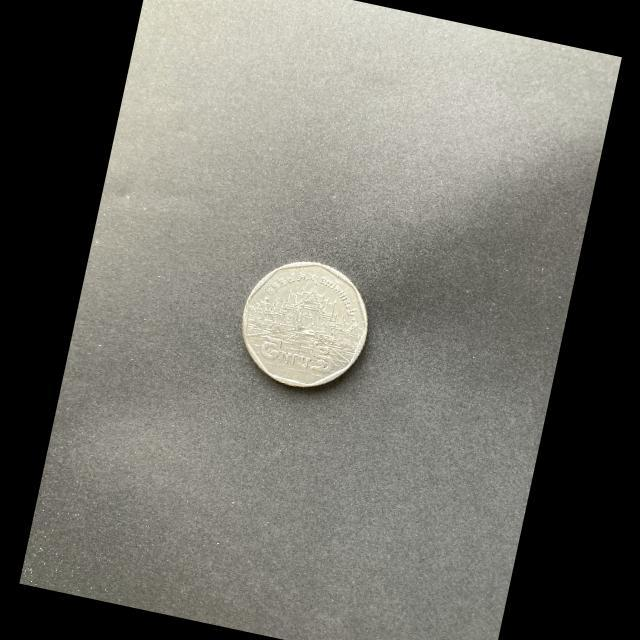5 Bath: (239, 259, 375, 394)
